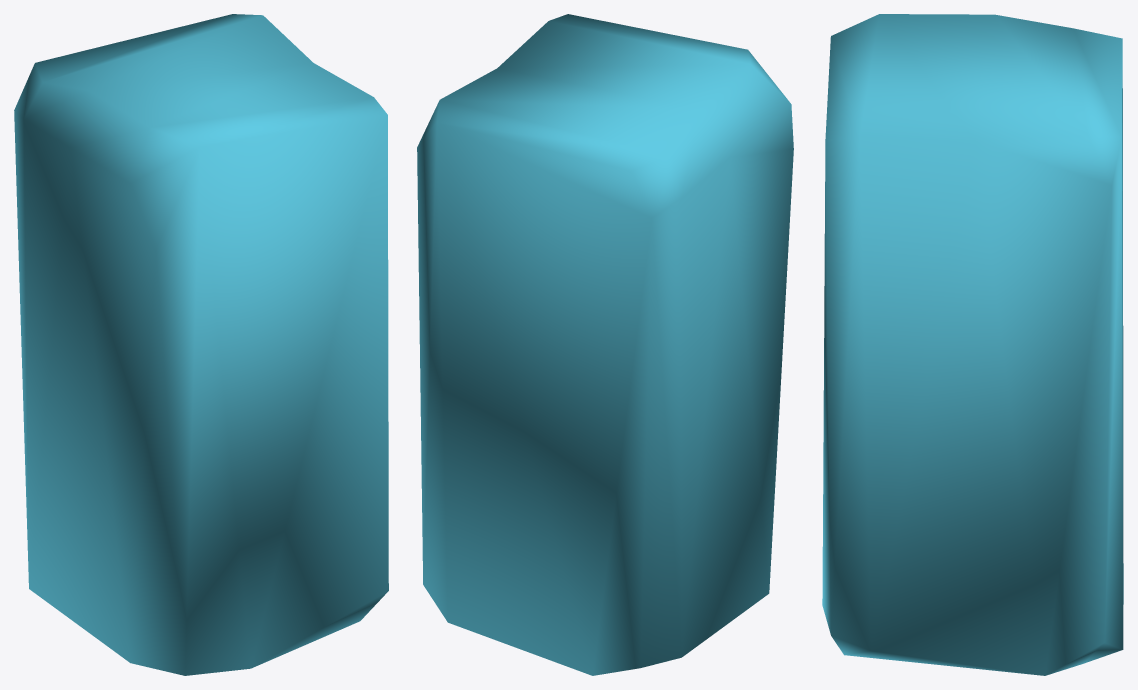
Rendered from big_brick_01.FBX.
3 renders of one model, left to right at view 1: azimuth 30°, elevation 25°; view 2: azimuth 150°, elevation 25°; view 3: azimuth 270°, elevation 25°, orthographic. The views are drawn at different scales.
Visible parts, largest first — view 1: big_brick_01; view 2: big_brick_01; view 3: big_brick_01.
Part boxes in pixels (box(x1,y1,x2,y2)): big_brick_01: box(14, 14, 388, 675); big_brick_01: box(417, 14, 793, 675); big_brick_01: box(822, 14, 1123, 675).
Bounding box in the file's own units: 22.5 × 45.66 × 22.26.
